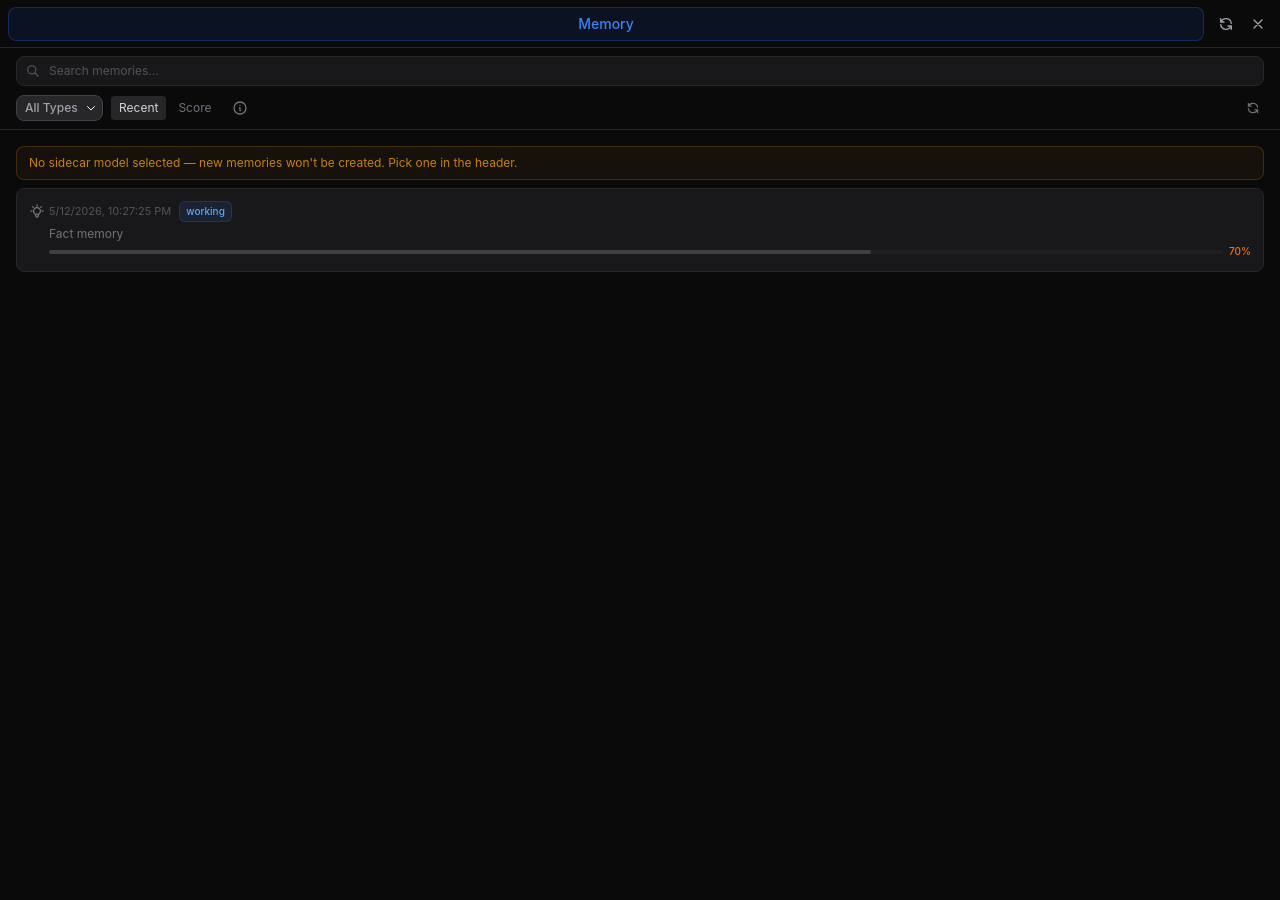
Test case: MemoryPanelV2 › Memory Detail Modal › shows memory_type in detail modal
This screenshot has width=1280, height=900.
Click the text "Fact memory".
click(86, 234)  # box top-left (49, 226), bottom-right (123, 241)
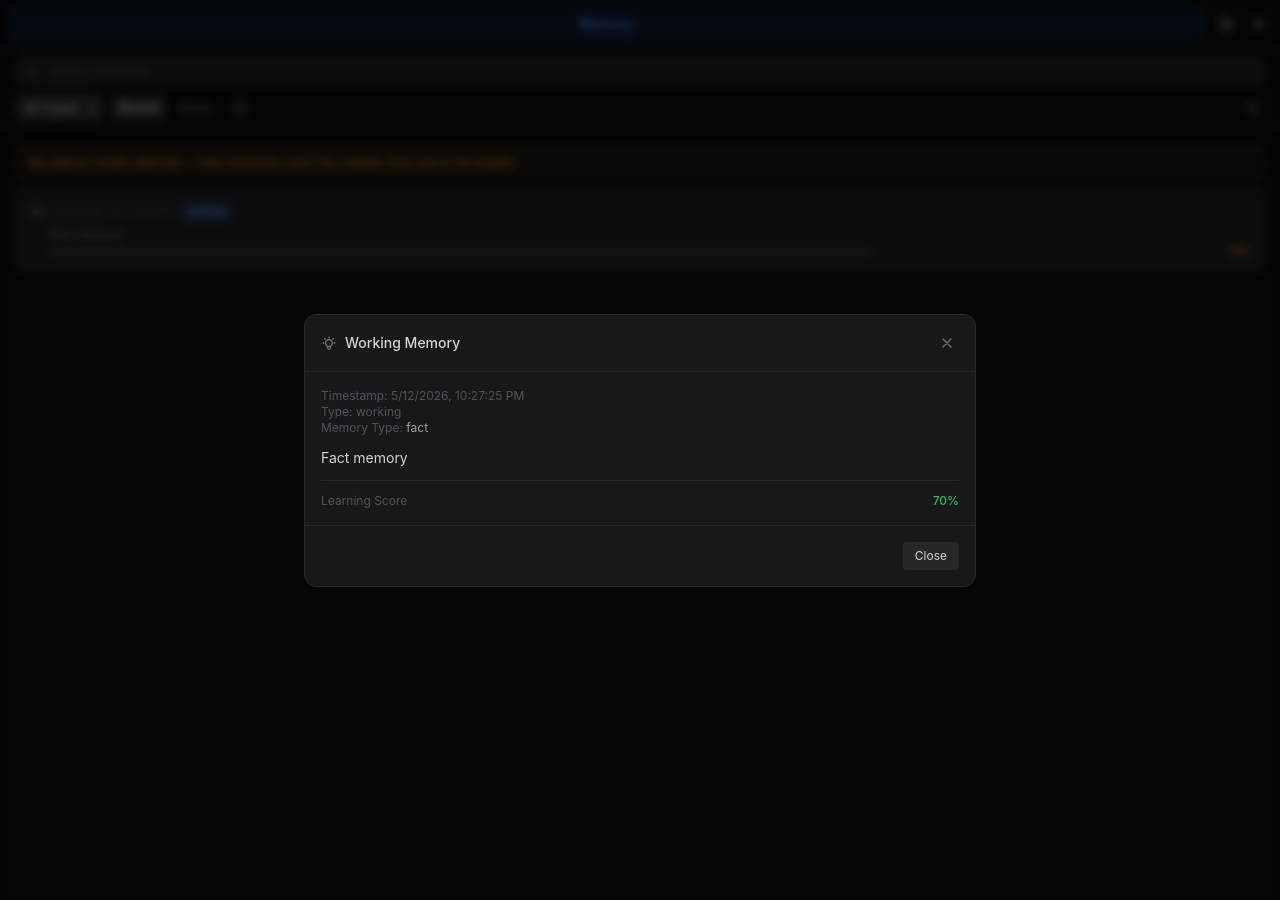
Expected: the text "fact" is shown, top-left (406, 420), bottom-right (428, 434)
